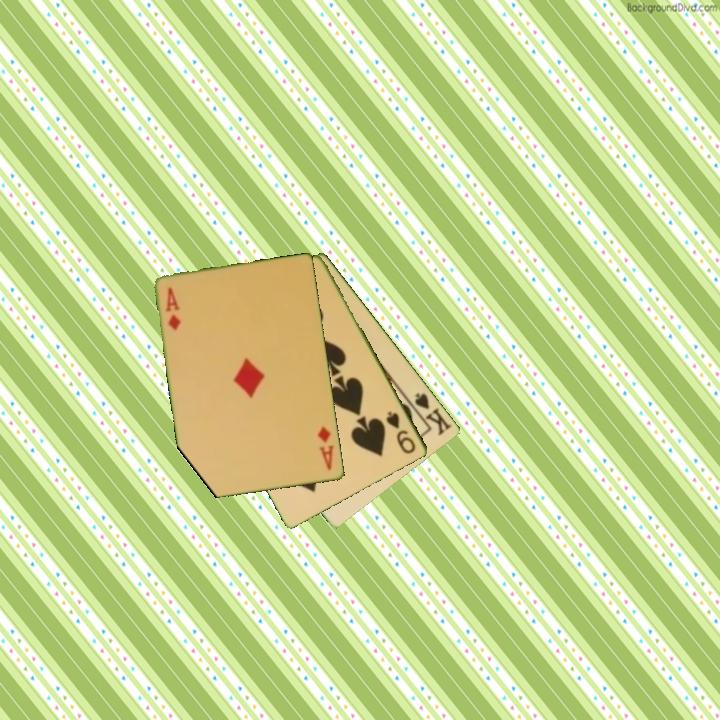9s: (383, 408, 419, 457)
Ad: (314, 423, 337, 473), (162, 284, 184, 333)
Ks: (405, 389, 455, 439)
